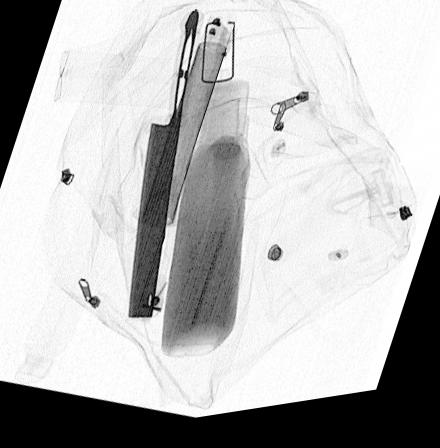Knife: (127, 15, 198, 322)
